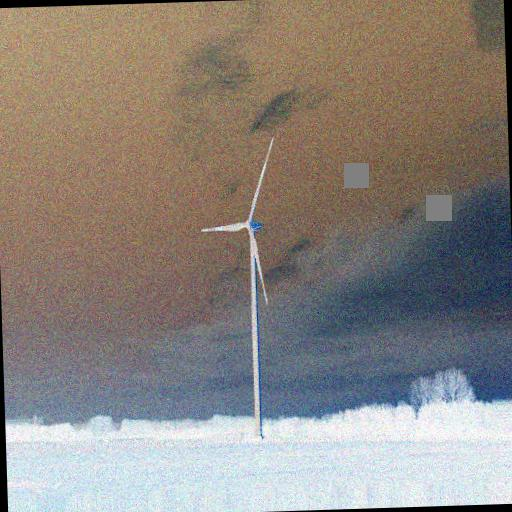wind turbine: (199, 134, 275, 442)
